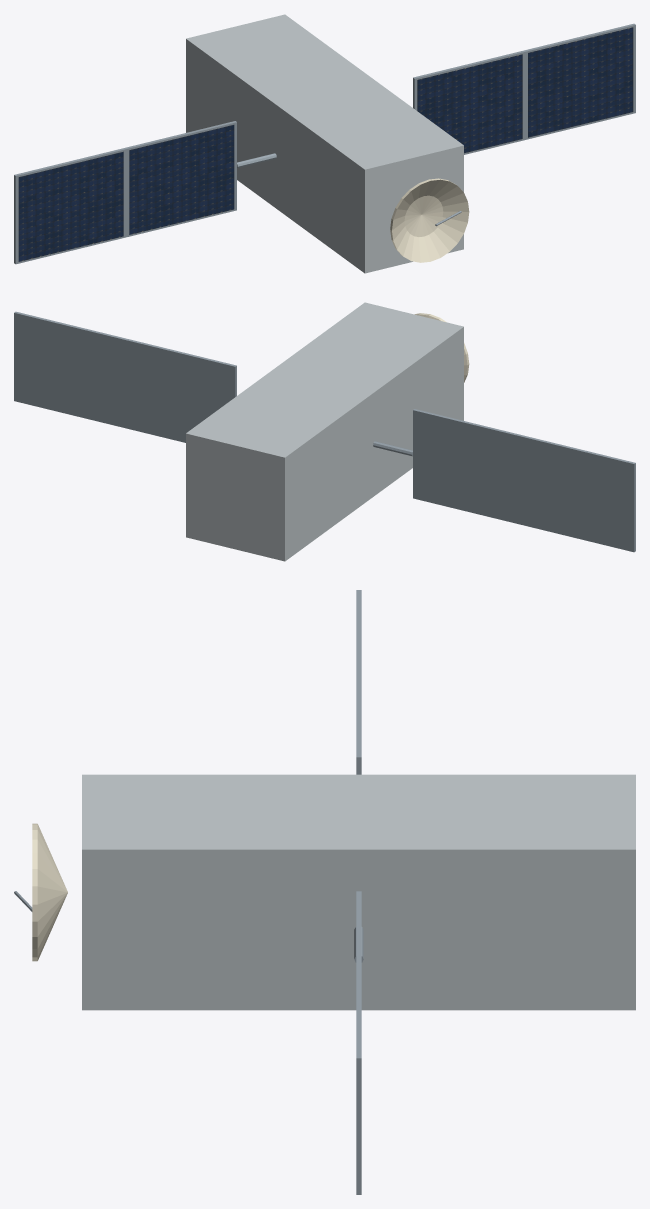
File: ref-kondor-28098.glb
The picture shows the model from 3 angles, top to bottom: view 1: azimuth 30°, elevation 25°; view 2: azimuth 150°, elevation 25°; view 3: azimuth 270°, elevation 25°; orthographic projection. The views are drawn at different scales.
Parts seen in each view (by area): view 1: Spacecraft body, Photovoltaic laminates (×4), Array frame (×4), Reflector dish; view 2: Spacecraft body, Array frame (×4); view 3: Spacecraft body, Reflector dish, Array frame.
Part boxes in pixels (bbox=[...]): Spacecraft body: bbox=[186, 14, 463, 273]; Photovoltaic laminates (×4): bbox=[18, 27, 633, 261]; Array frame (×4): bbox=[14, 23, 635, 264]; Reflector dish: bbox=[390, 178, 469, 262]; Spacecraft body: bbox=[186, 302, 463, 561]; Array frame (×4): bbox=[14, 311, 635, 552]; Spacecraft body: bbox=[82, 774, 635, 1010]; Reflector dish: bbox=[32, 823, 67, 961]; Array frame: bbox=[356, 974, 361, 1194].
Bounding box in the file's own units: 5 × 0.8 × 2.81.
4 materials, 1 textured.
